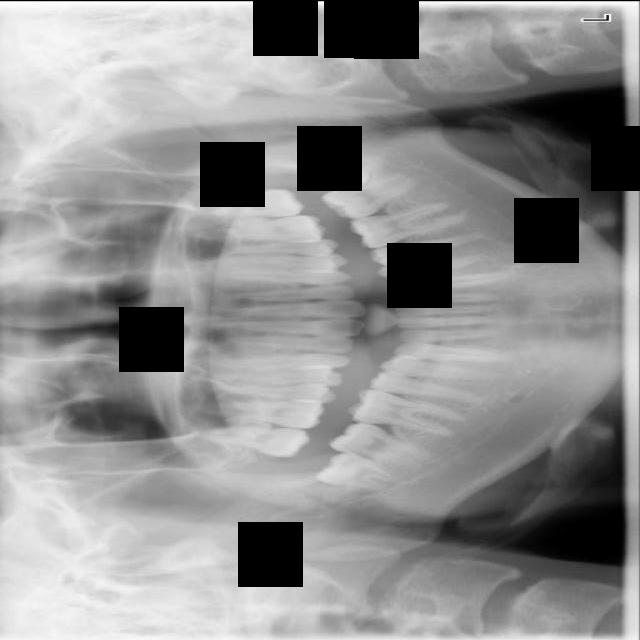73: (614, 12, 622, 22)
BioHorizons Implant: (212, 188, 304, 216)
Biomet 3i Implant: (303, 135, 383, 195)
Blue Sky Bio Implant: (319, 168, 422, 228)
Caries: (200, 425, 311, 457)
Implant: (327, 412, 436, 474)
Keystone Dental Implant: (316, 448, 399, 492)
